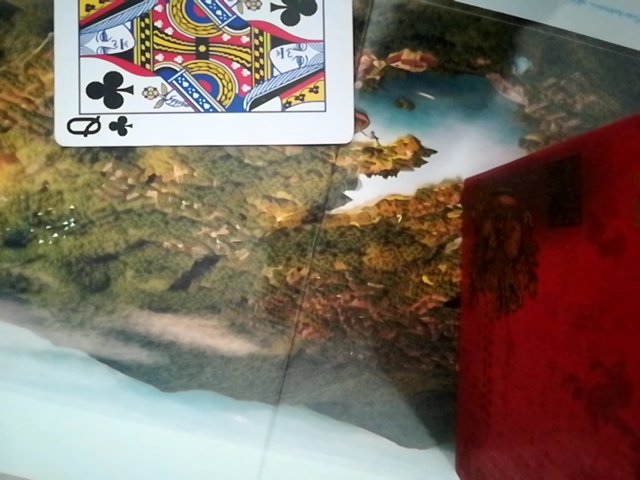mh q: (44, 0, 358, 153)
